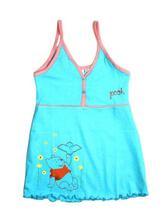clothoes: (25, 18, 151, 203)
